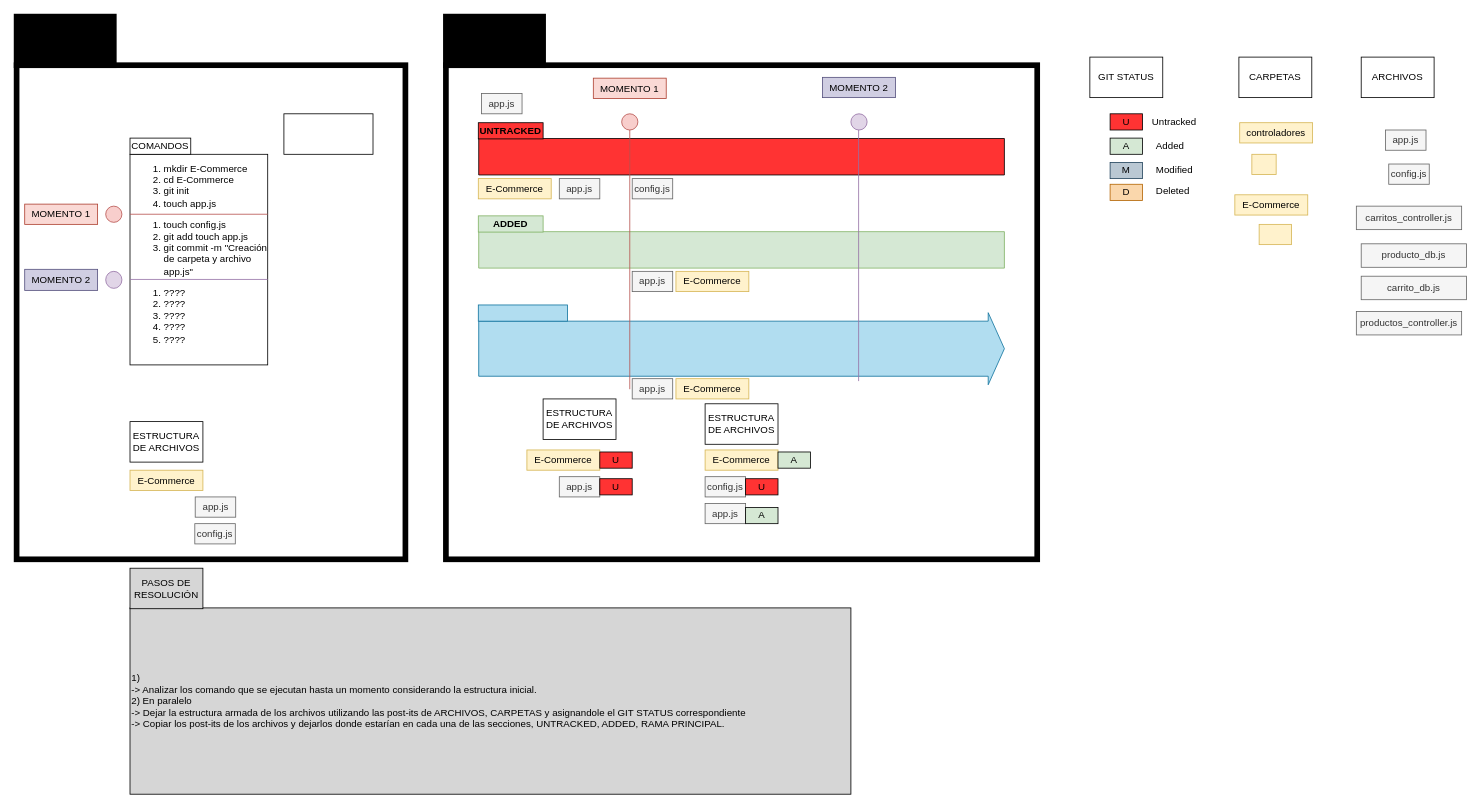
Image size: 1481x808. Some labels were removed from this diagram. The centre of each missing label's shape, as x and y in pixels:
db: (1263,164)
DONDE ESTA PARADA LA TERMINAL: (328,133)
PASO 1: (64,40)
PASO 2: (494,40)
RAMA PRINCIPAL: (522,312)
rutas: (1275,234)
